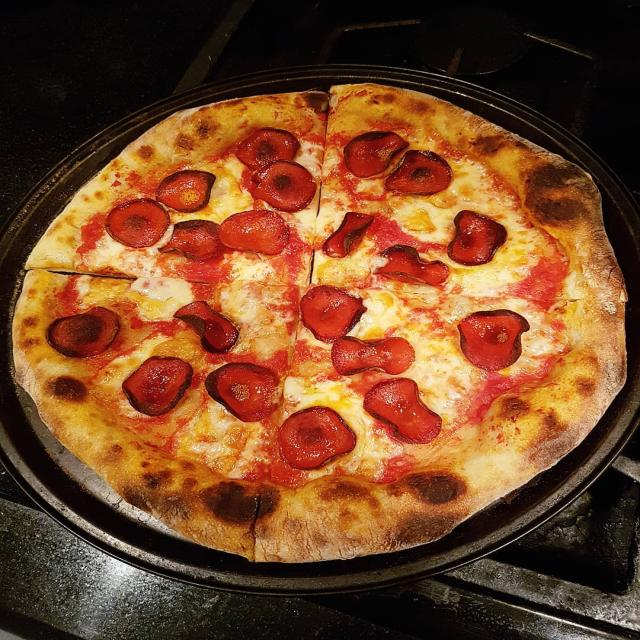pepperoni: (362, 377, 444, 446), (275, 404, 358, 472), (202, 360, 282, 423), (455, 308, 531, 372), (120, 355, 194, 417), (299, 284, 368, 344), (45, 307, 121, 358), (248, 159, 318, 214), (171, 300, 240, 354), (329, 335, 417, 377), (104, 197, 172, 250), (446, 208, 508, 266), (370, 243, 450, 287), (218, 209, 291, 256), (382, 149, 454, 196), (341, 130, 411, 178), (158, 218, 227, 262), (233, 127, 300, 171), (154, 168, 217, 214), (319, 210, 376, 260)
pizza: (6, 79, 634, 566)
